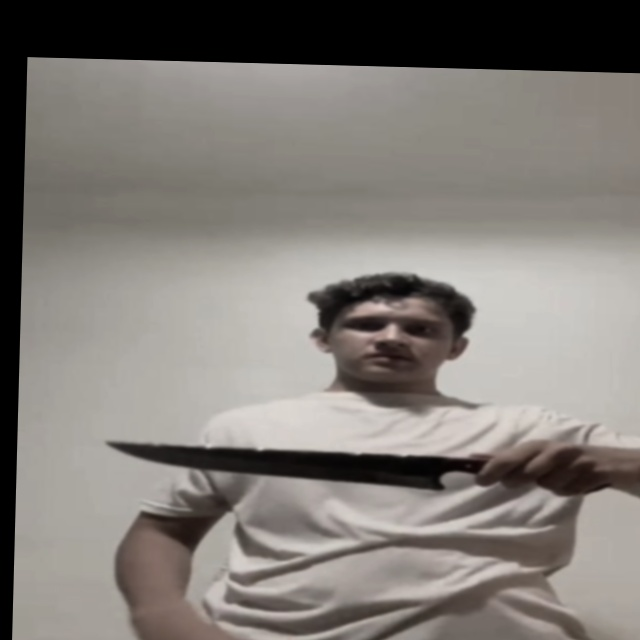Sharp-Object: (100, 438, 460, 491)
